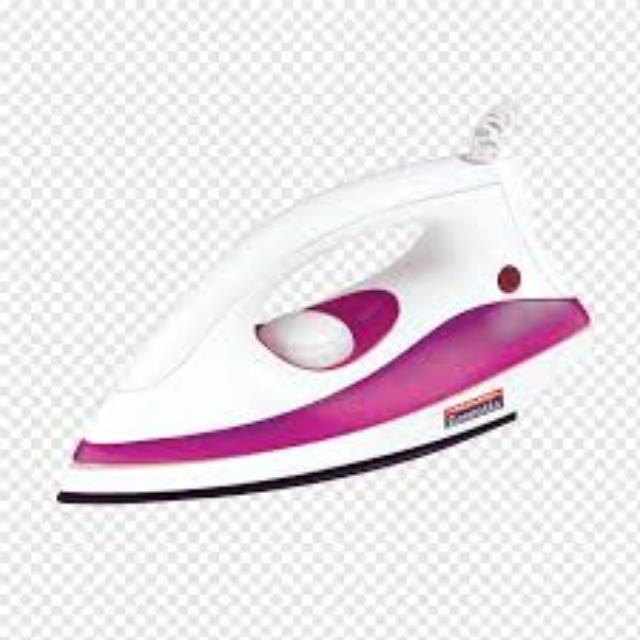Clothes-Iron: (98, 150, 556, 532)
